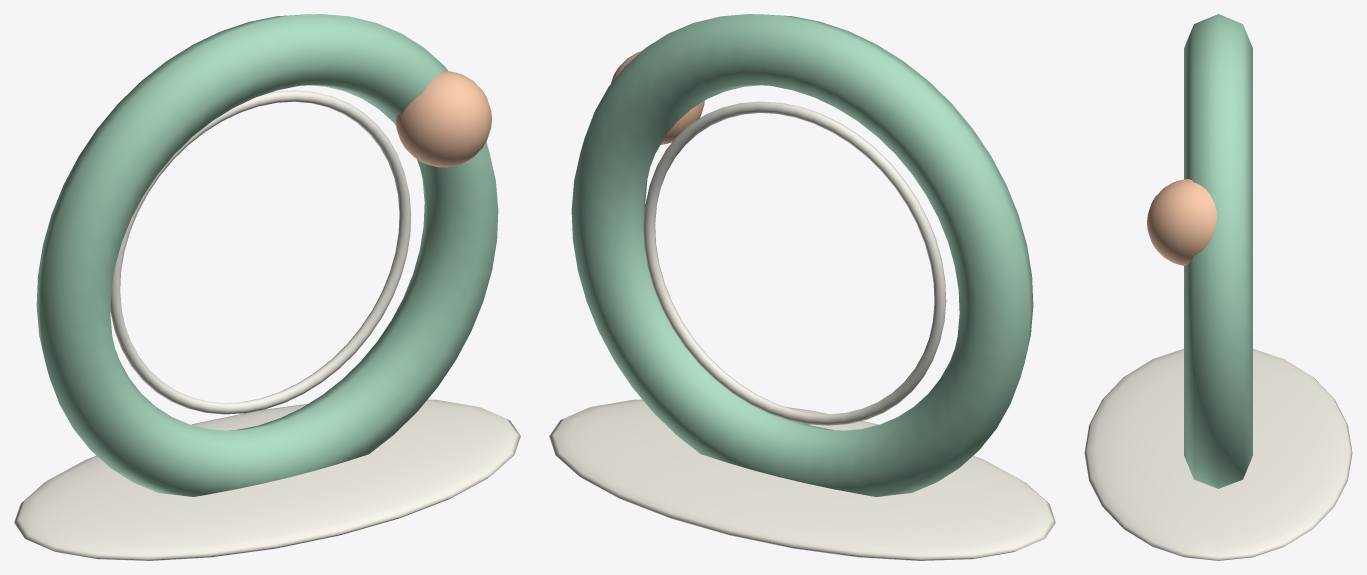
Rendered from movement.glb.
The picture shows the model from 3 angles, left to right: view 1: azimuth 30°, elevation 25°; view 2: azimuth 150°, elevation 25°; view 3: azimuth 270°, elevation 25°; orthographic projection. The views are drawn at different scales.
Parts seen in each view (by area): view 1: Movement_Activity_Ring, Movement_Platform, Movement_Inner_Ring, Movement_Energy_Marker; view 2: Movement_Activity_Ring, Movement_Platform, Movement_Inner_Ring, Movement_Energy_Marker; view 3: Movement_Platform, Movement_Activity_Ring, Movement_Energy_Marker.
Part boxes in pixels (bbox=[...]): Movement_Activity_Ring: bbox=[36, 14, 498, 496]; Movement_Platform: bbox=[14, 399, 520, 560]; Movement_Inner_Ring: bbox=[110, 90, 411, 414]; Movement_Energy_Marker: bbox=[395, 71, 491, 167]; Movement_Activity_Ring: bbox=[571, 14, 1033, 496]; Movement_Platform: bbox=[549, 399, 1055, 560]; Movement_Inner_Ring: bbox=[643, 101, 946, 425]; Movement_Energy_Marker: bbox=[611, 51, 704, 144]; Movement_Platform: bbox=[1084, 349, 1352, 560]; Movement_Activity_Ring: bbox=[1184, 14, 1252, 488]; Movement_Energy_Marker: bbox=[1147, 179, 1216, 265].
Bounding box in the file's own units: 2.2 × 2.06 × 1.16.
